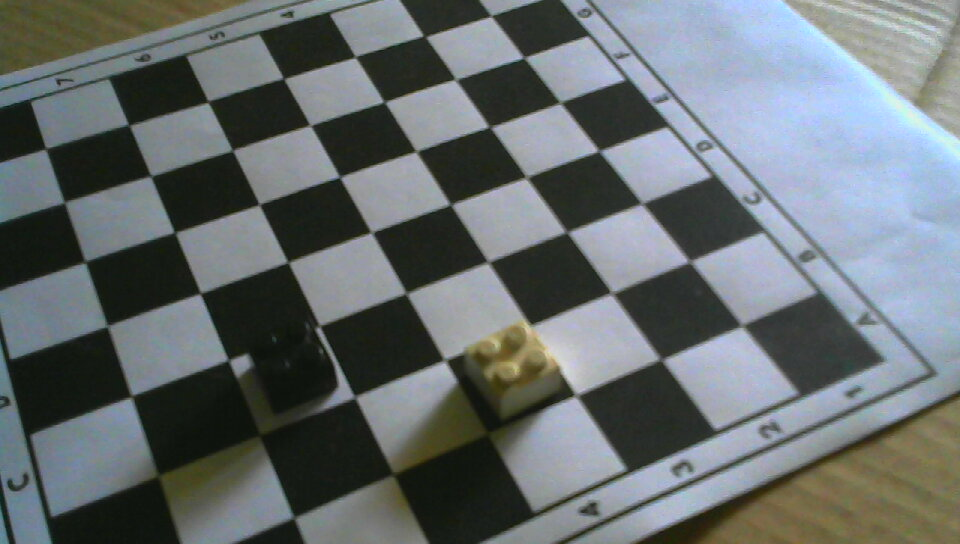bp: (245, 317, 337, 413)
wp: (463, 320, 563, 422)
